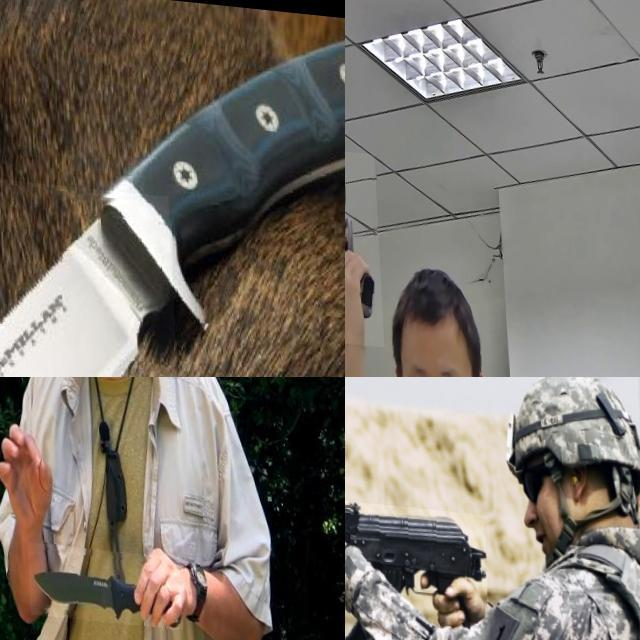-: (0, 160, 184, 377), (22, 538, 178, 622)
gun-knife-thesis - v11 Yolov5 augmented: (345, 479, 513, 640), (345, 146, 382, 345)
